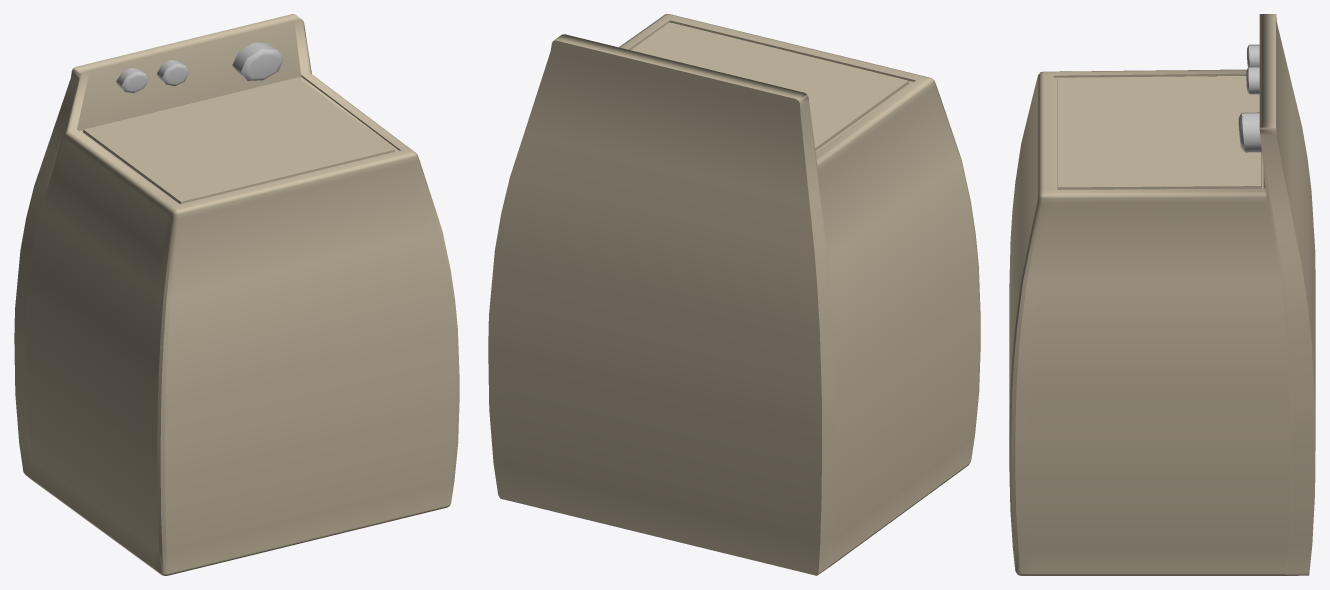
File: washer_anim_03.fbx
3 renders of one model, left to right at view 1: azimuth 30°, elevation 25°; view 2: azimuth 150°, elevation 25°; view 3: azimuth 270°, elevation 25°, orthographic. The views are drawn at different scales.
Visible parts, largest first — view 1: washer_high:washer; view 2: washer_high:washer; view 3: washer_high:washer.
Part boxes in pixels (x1,y1,x2,y2): washer_high:washer: (14,14,459,575); washer_high:washer: (488,14,980,575); washer_high:washer: (1009,14,1315,575).
Size of the model in its own units: 84.58 by 110 by 70.71.
